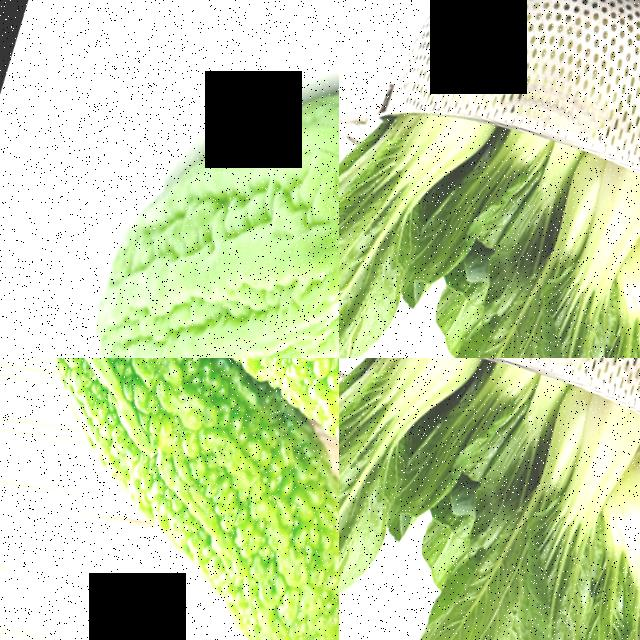bitter gourd: (14, 0, 339, 358), (0, 358, 339, 640), (124, 358, 339, 477)
bok choy: (428, 375, 640, 640), (442, 142, 640, 358), (339, 81, 457, 358), (400, 107, 557, 295), (339, 358, 443, 640), (386, 358, 542, 528), (532, 454, 640, 640), (546, 221, 640, 358)
